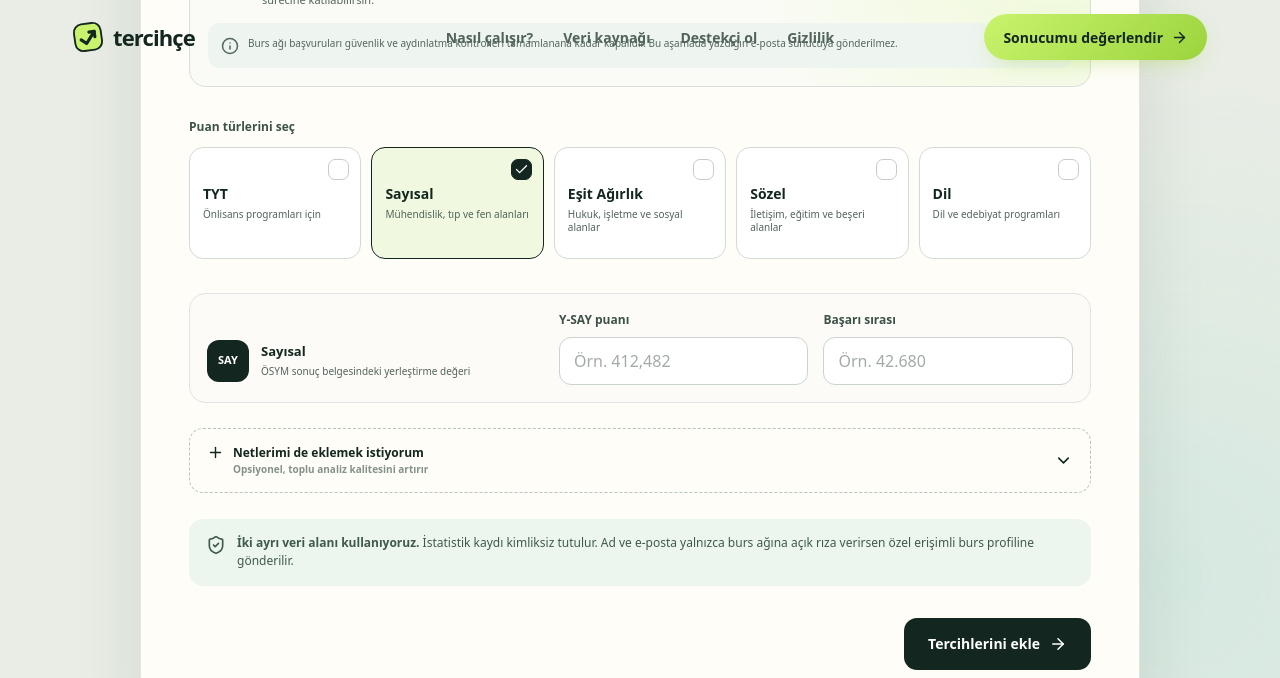
Scenario: Tercihçe analiz akışı › geçersiz puanı bir sonraki adıma geçmeden açıklar
(page scrolled)
Type "90" into the field named "SAY yerleştirme puanı" at [684, 360], box [559,336,808,384]
(page scrolled)
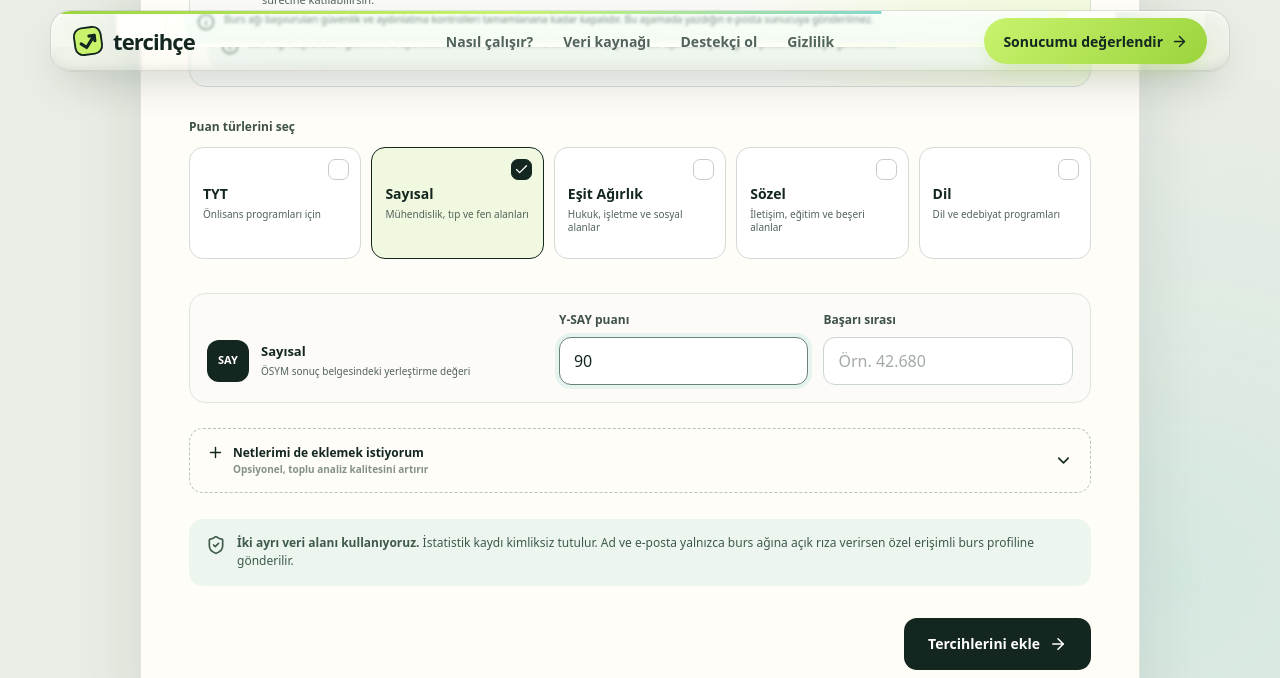
Type "42680" into the field named "SAY yerleştirme başarı sırası" at [948, 360], box [823,336,1073,384]
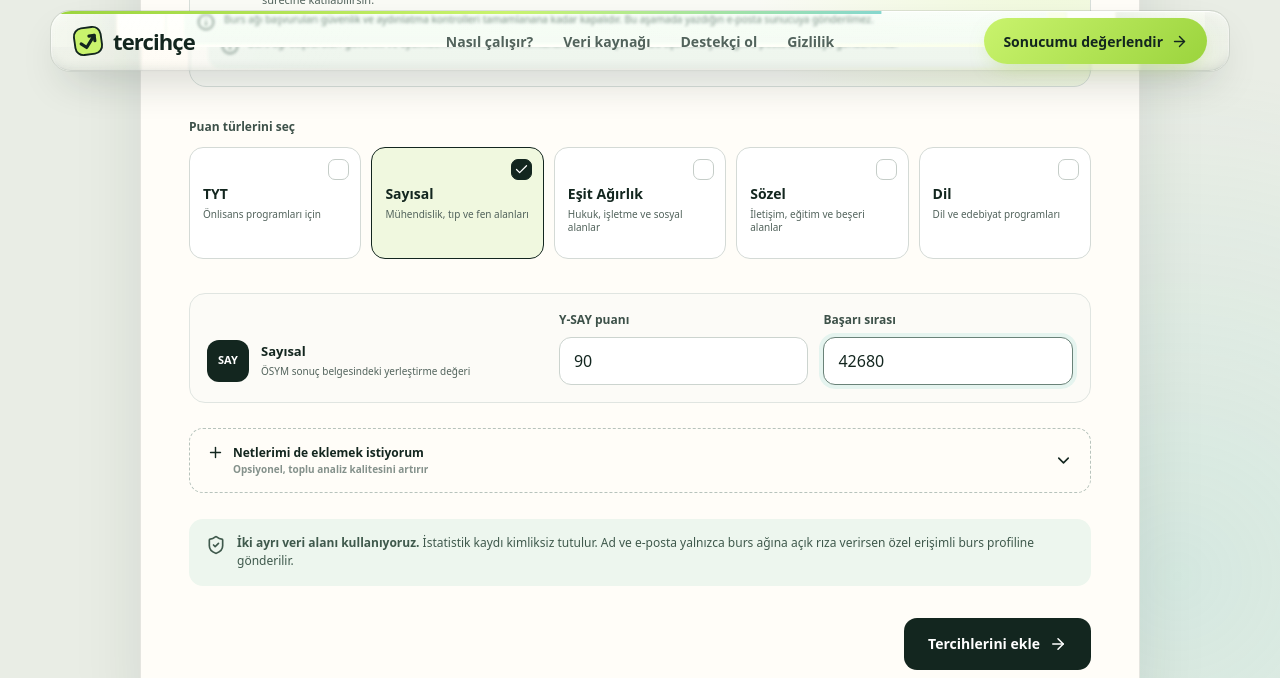
Click the button "Tercihlerini ekle" at [998, 644], box [904,618,1091,670]
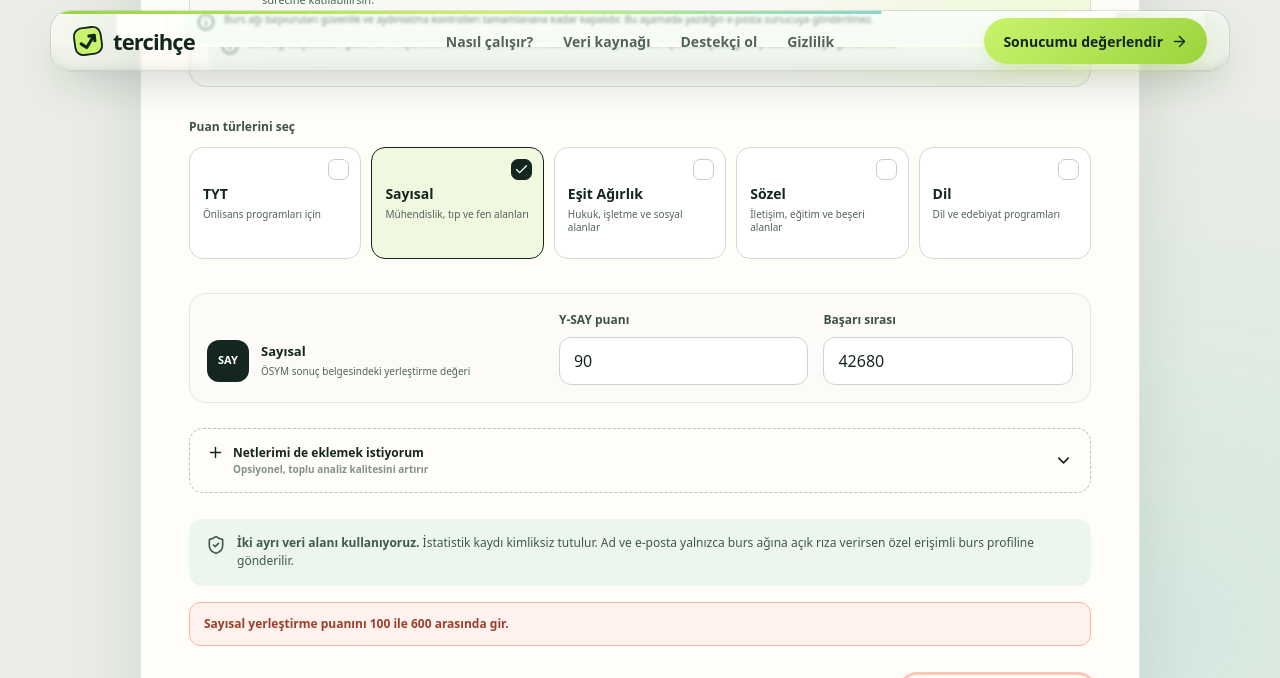
expect the text "Sayısal yerleştirme puanını 100 ile 600 arasında gir." is shown: met, box [189,602,1091,646]
